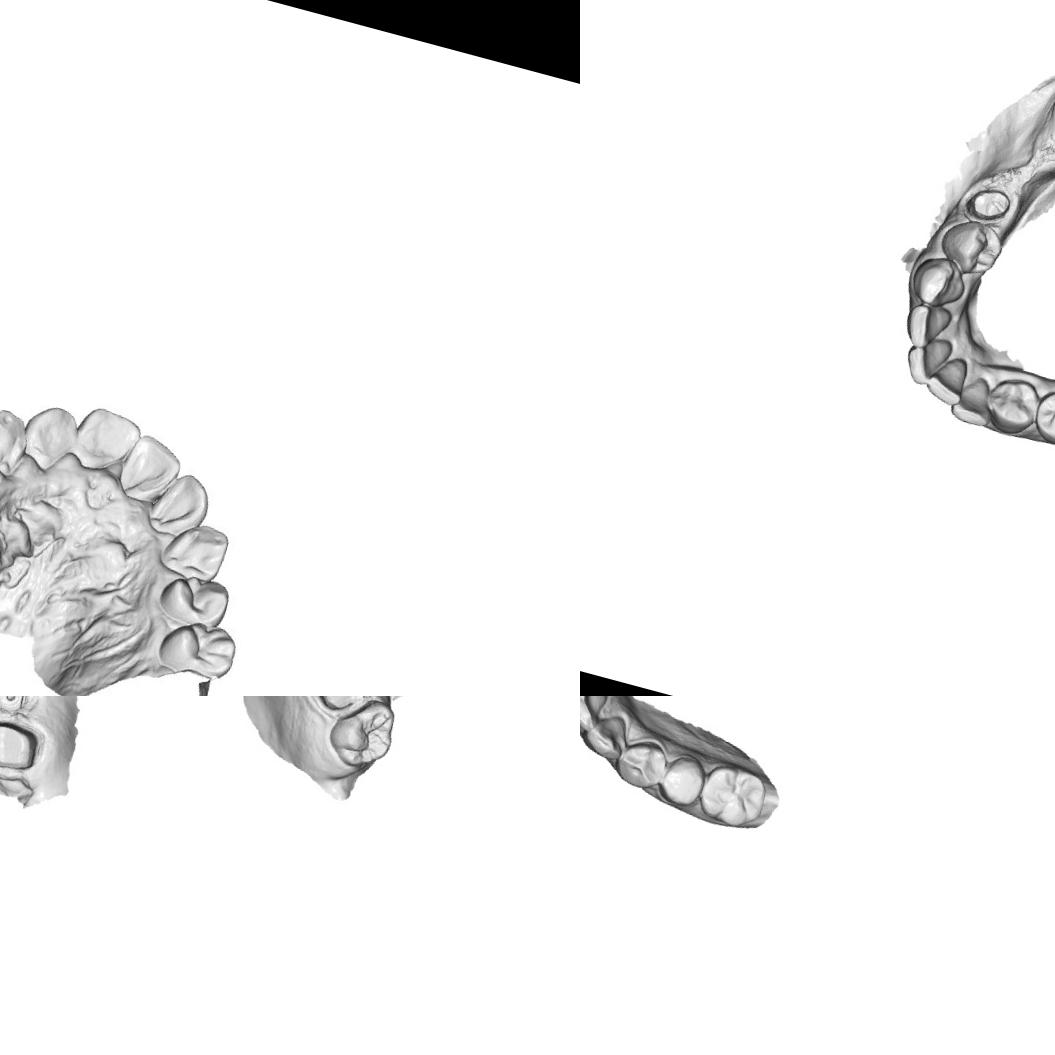canine: (158, 514, 236, 586), (932, 212, 1008, 282), (580, 706, 634, 766), (946, 370, 1000, 429), (0, 400, 35, 473)
crown: (0, 705, 47, 785), (961, 180, 1015, 228), (304, 696, 384, 720)
implant: (0, 696, 31, 716)
incisor: (66, 399, 144, 482), (117, 430, 186, 506), (17, 400, 84, 475), (148, 465, 216, 538), (906, 249, 972, 312), (899, 330, 954, 391), (898, 298, 955, 354), (920, 350, 970, 408), (580, 696, 610, 735)
molar: (322, 696, 403, 776), (694, 759, 770, 832)
premolar: (154, 614, 241, 684), (155, 565, 235, 633), (979, 370, 1045, 439), (656, 750, 712, 812), (613, 734, 670, 793), (1027, 382, 1055, 451)
